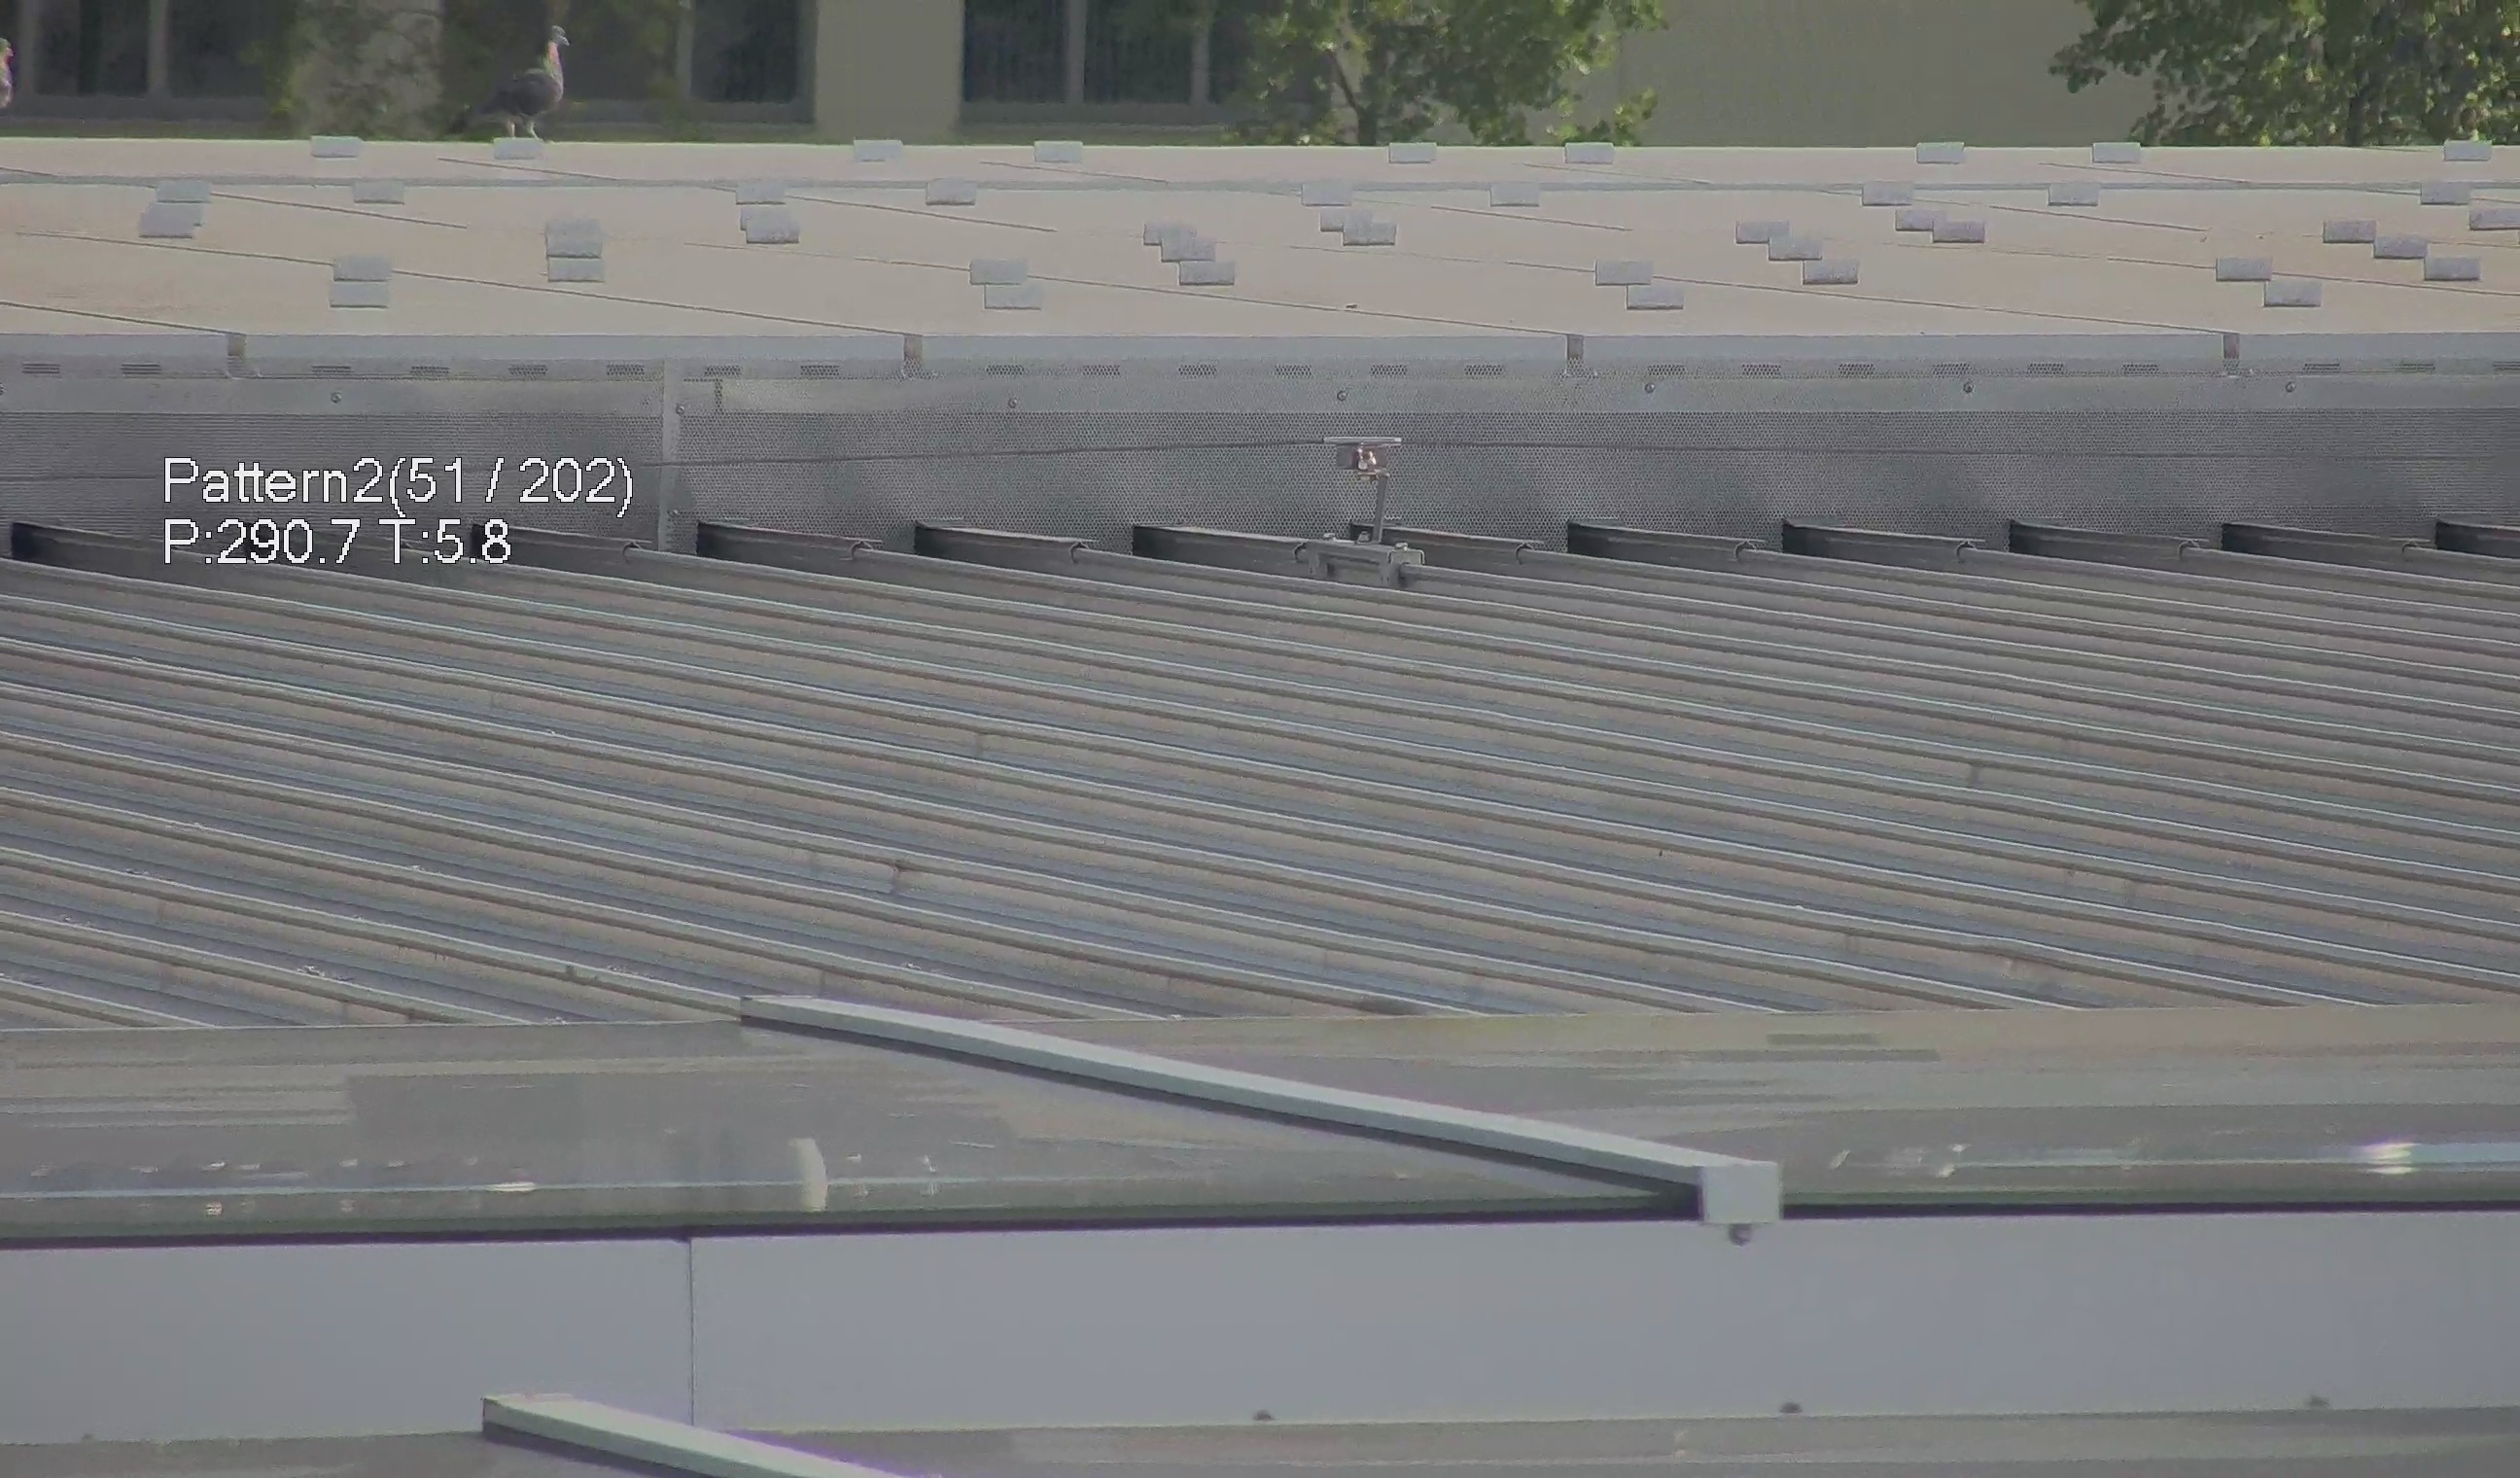Pigeon: (448, 9, 573, 141)
